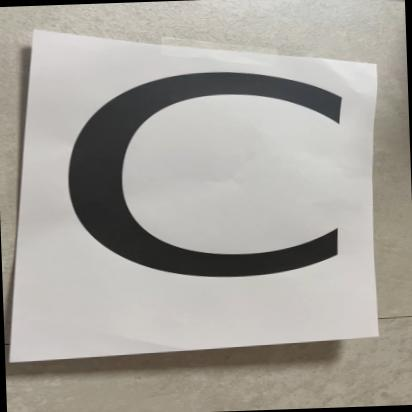seat: (26, 12, 374, 368)
